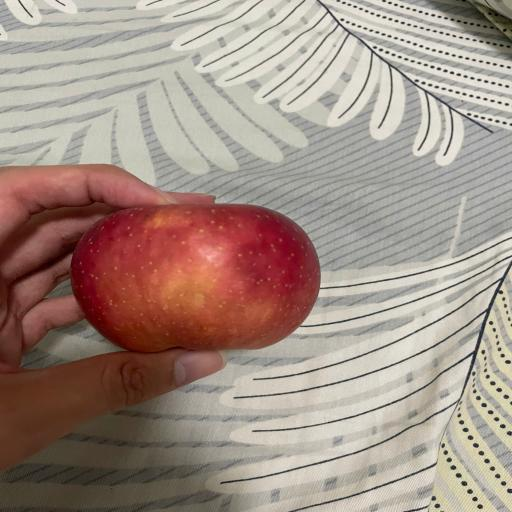apple: (71, 203, 320, 352)
